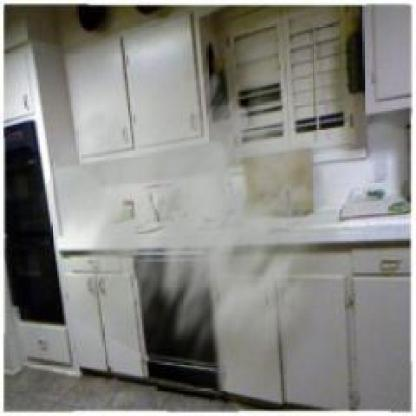Smoke: (28, 45, 362, 414)
